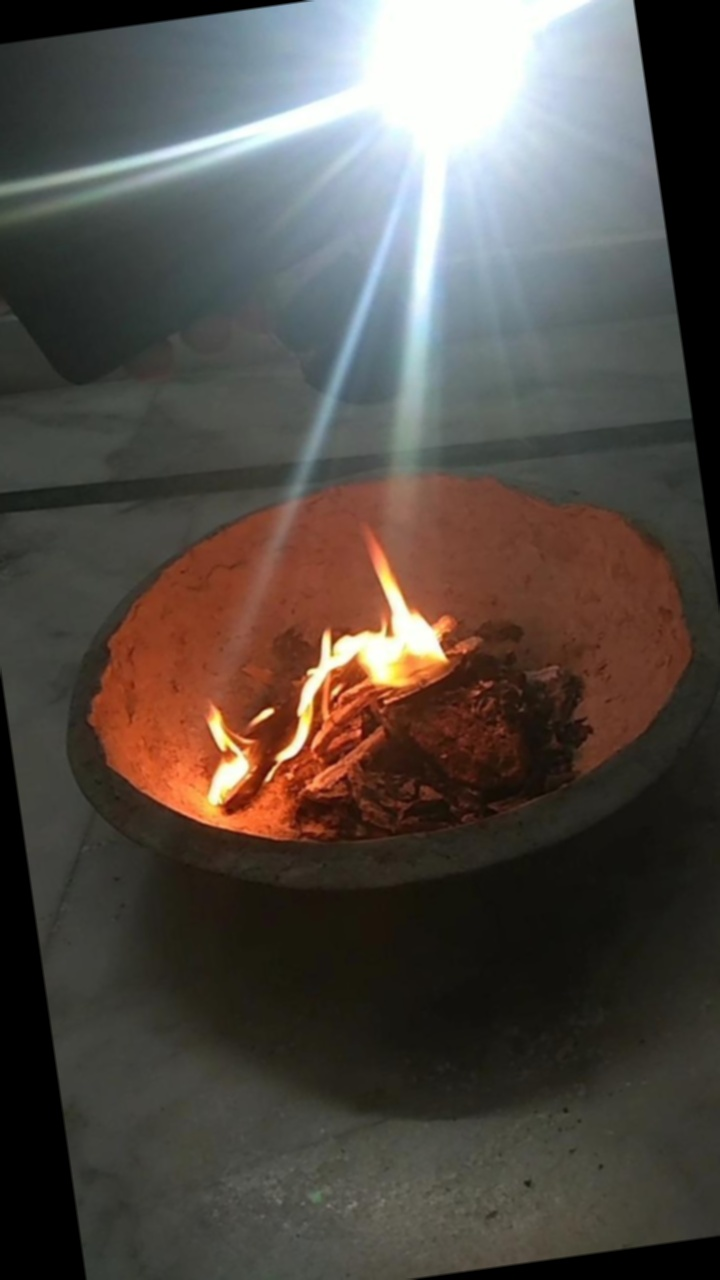fire: (266, 475, 447, 709)
